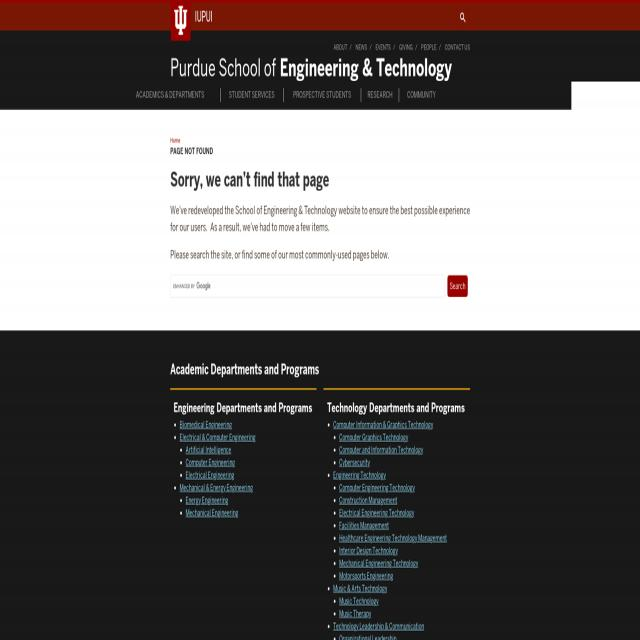button: (171, 0, 190, 41), (448, 275, 468, 297), (460, 12, 466, 22)
field: (171, 275, 443, 297)
